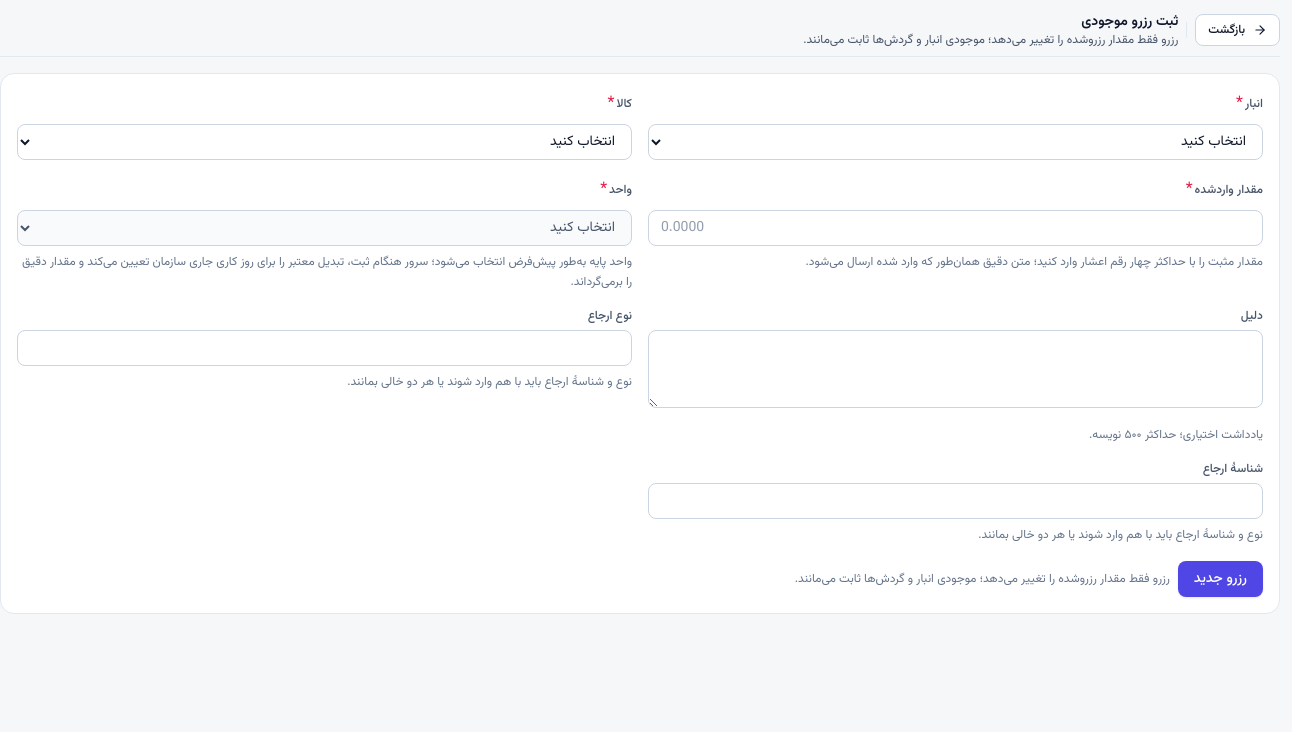
Test: reservation create form › reserves the Material Request owner discriminator for its lifecycle instead of creating an un-releasable generic claim
Step 1. Select "WH-01 — انبار مرکزی" in the dropdown labelled "انبار" → (956, 142), box [648,124,1263,160]
Step 2. Select "KAL-01 — کالای نمونه" in the dropdown labelled "کالا" → (324, 142), box [17,124,632,160]
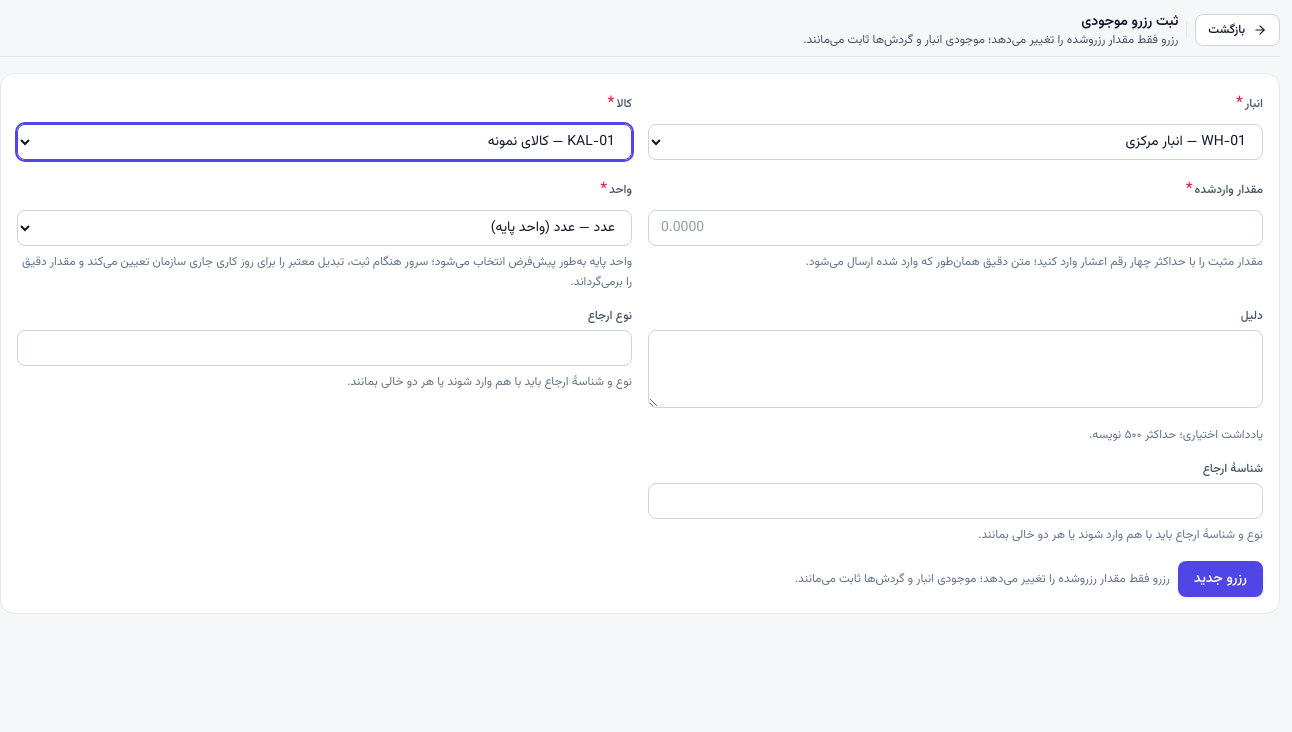
Step 3. Type "2.5000" into the field labelled "مقدار واردشده" → (956, 228), box [648,210,1263,246]
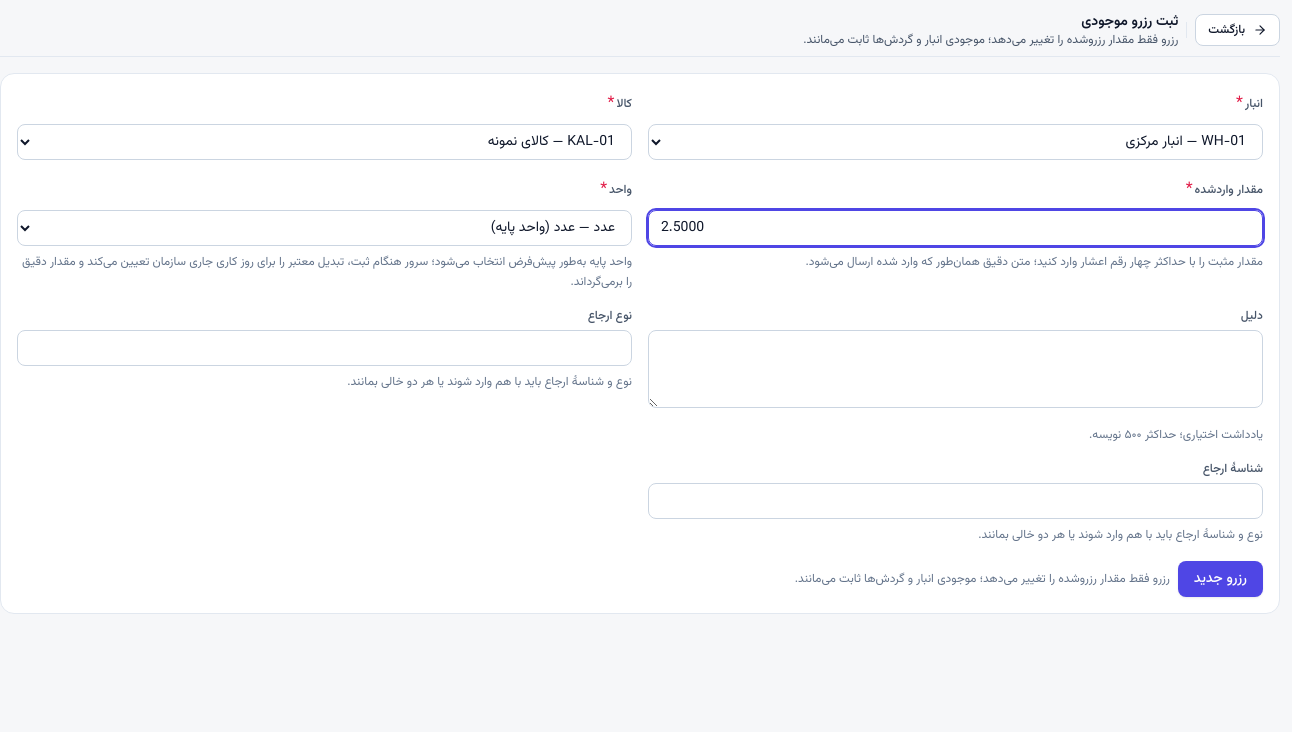
Step 4. Select "عدد — عدد (واحد پایه)" in the dropdown labelled "واحد" → (324, 228), box [17,210,632,246]
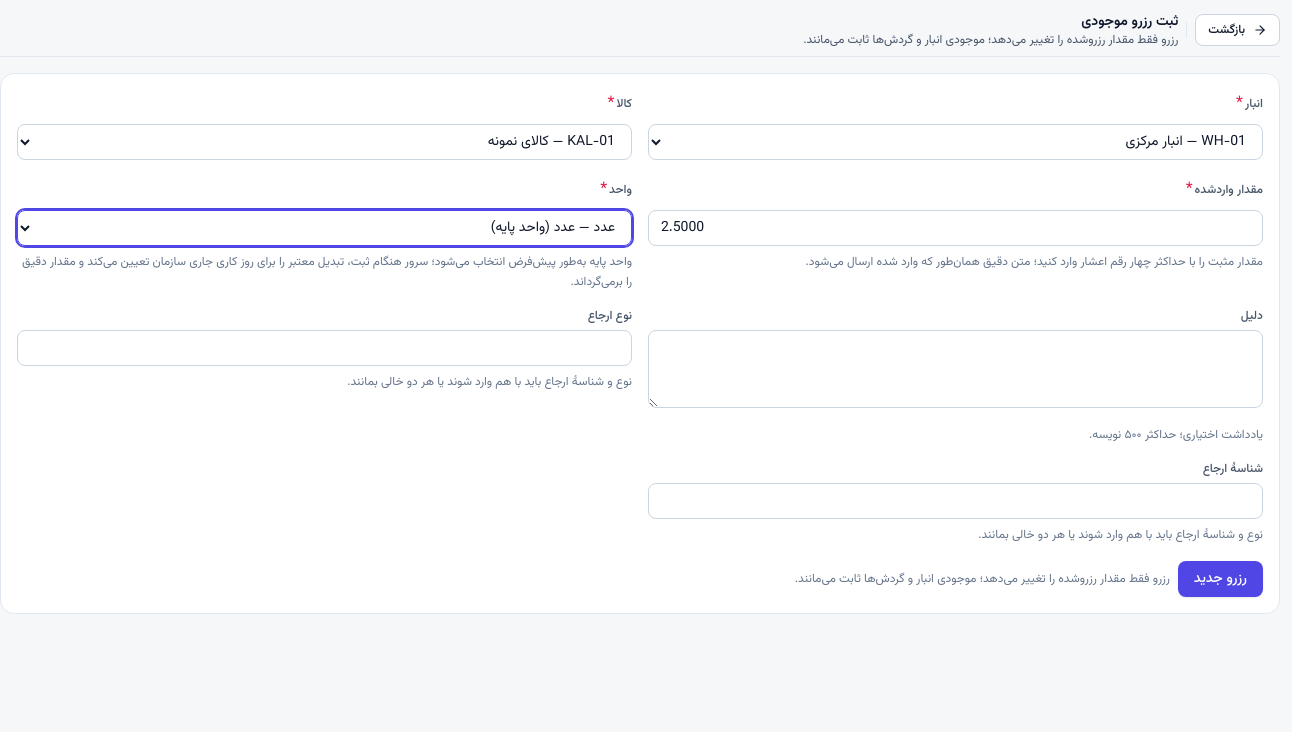
Step 5. Type "material_request_line" into the field labelled "نوع ارجاع" → (324, 348), box [17,330,632,366]
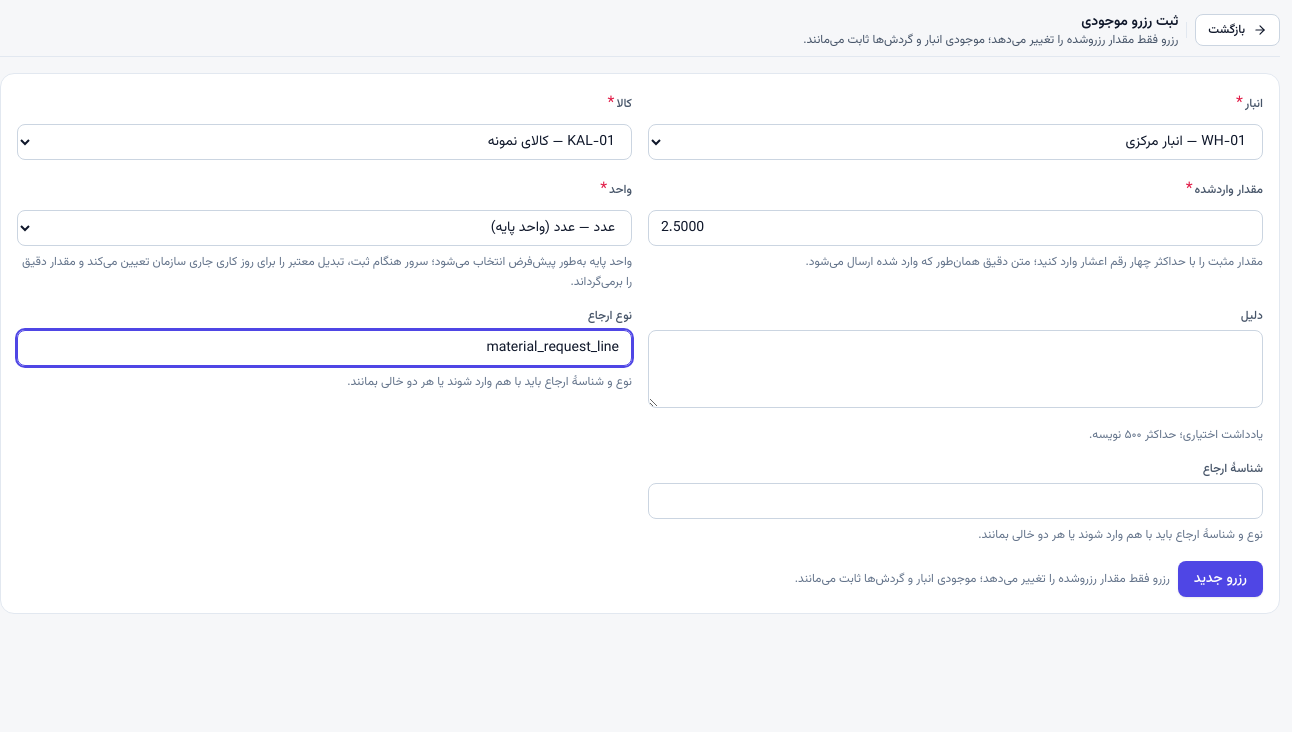
Step 6. Type "line-1" into the field labelled "شناسهٔ ارجاع" → (956, 501), box [648,483,1263,519]
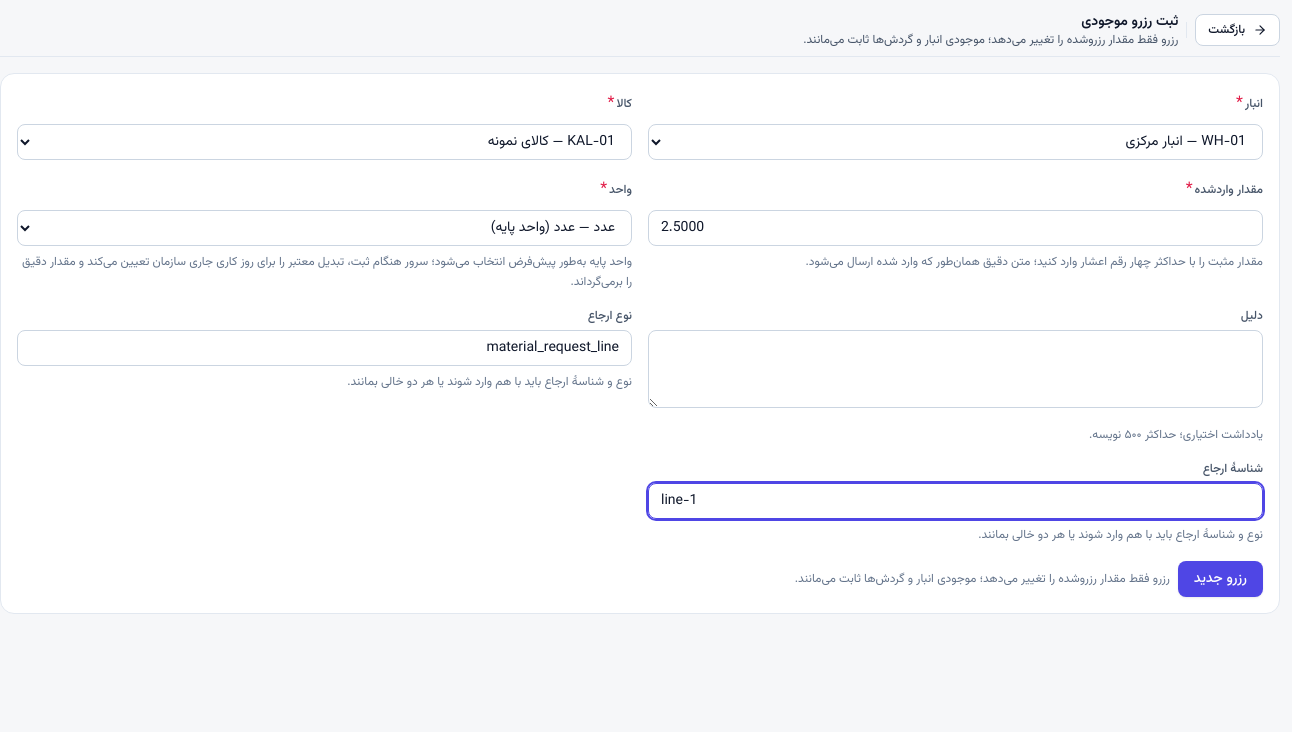
Step 7. Click the button "رزرو جدید" → (1220, 579), box [1178,561,1263,597]
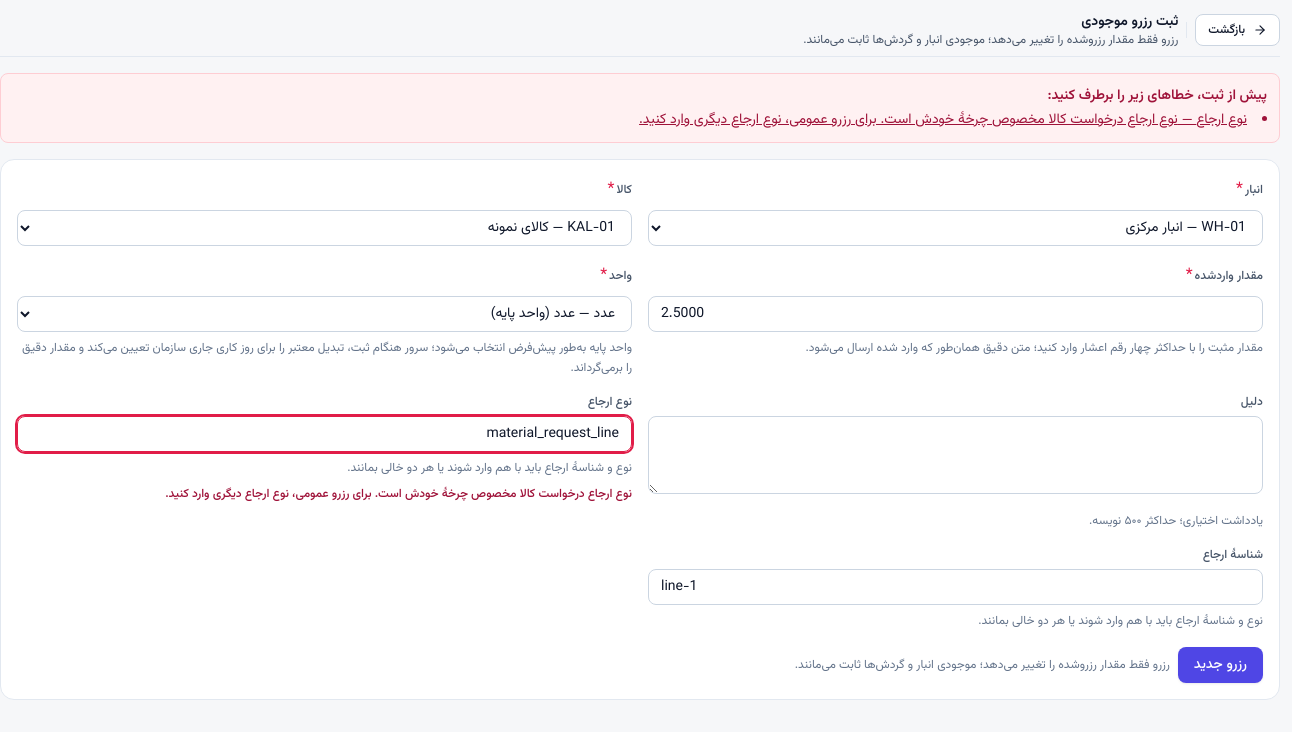
Expected: the message with test id "reservation-error-summary" shows "نوع ارجاع درخواست کالا مخصوص چرخهٔ خودش است. برای رزرو عمومی، نوع ارجاع دیگری وارد کنید.", [639,109,1247,131]
